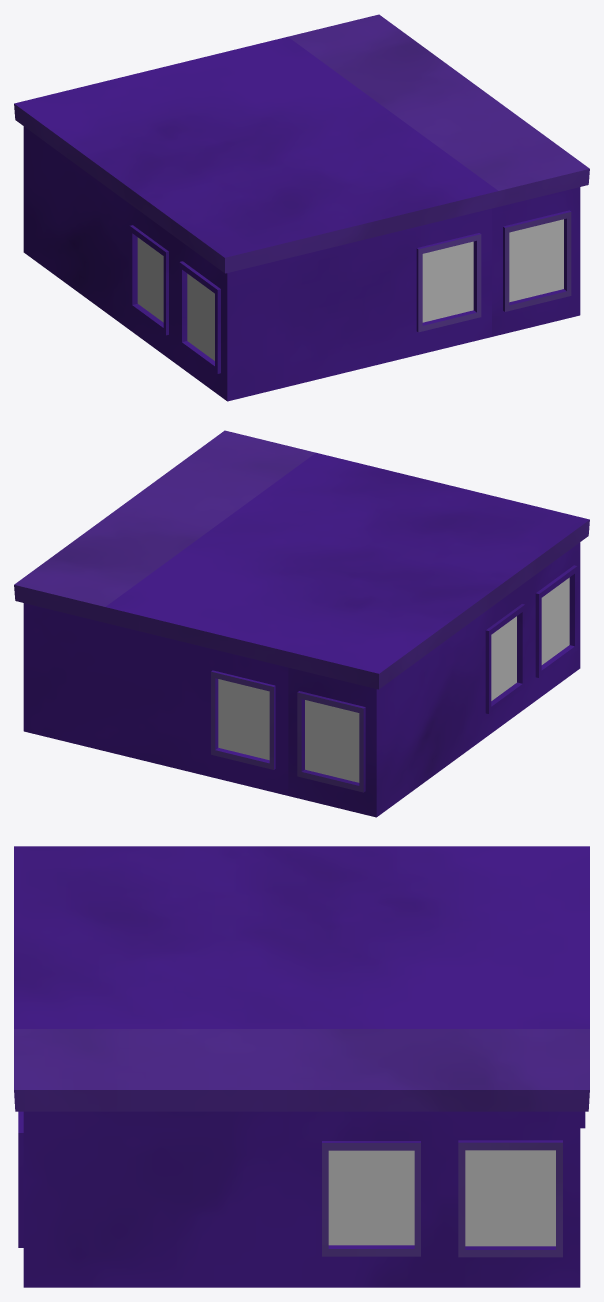
The model's file is SM_ModularMiddleBuilding1.fbx.
The picture shows the model from 3 angles, top to bottom: view 1: azimuth 30°, elevation 25°; view 2: azimuth 150°, elevation 25°; view 3: azimuth 270°, elevation 25°; orthographic projection. The views are drawn at different scales.
Visible parts, largest first — view 1: MiddleBuilding1; view 2: MiddleBuilding1; view 3: MiddleBuilding1.
Boxes of the visible parts, left/top/right/bottom form: MiddleBuilding1: left=14, top=14, right=589, bottom=401; MiddleBuilding1: left=14, top=430, right=589, bottom=817; MiddleBuilding1: left=14, top=846, right=589, bottom=1287.
Size of the model in its own units: 10.35 by 4 by 10.35.
